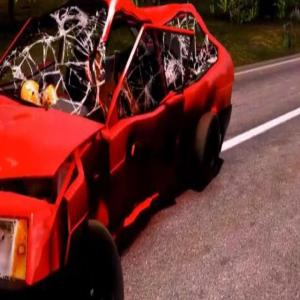fatal: (0, 0, 238, 300)
